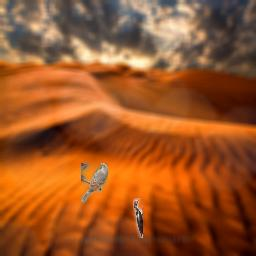Sparrow: (81, 163, 108, 203)
Woodpecker: (133, 198, 143, 238)
